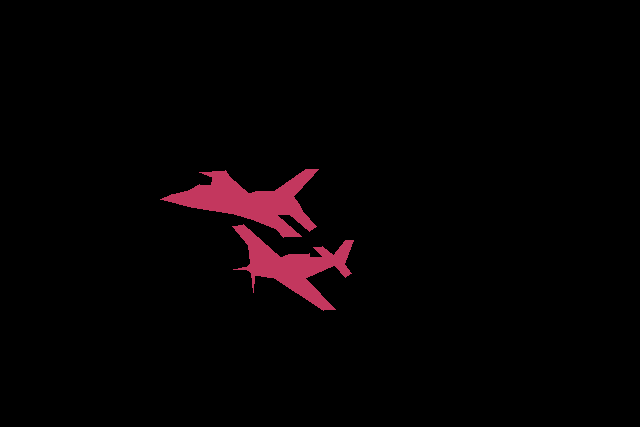Airplane: (160, 169, 319, 237), (232, 224, 353, 310)
